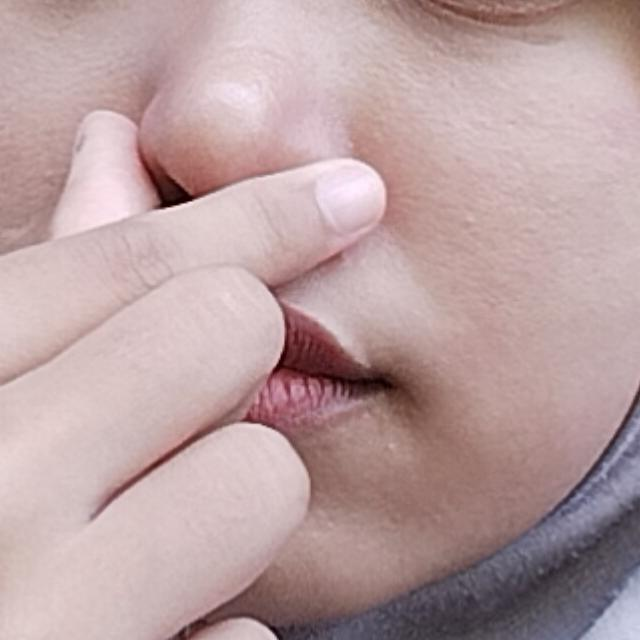bau: (0, 18, 516, 640)
